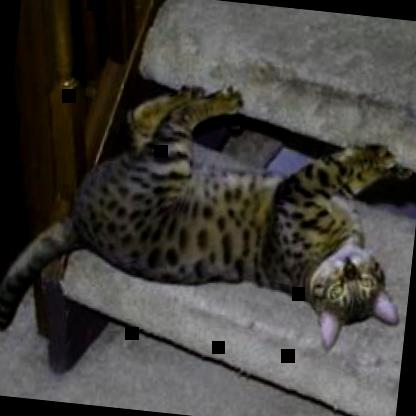cat: (0, 65, 415, 372)
